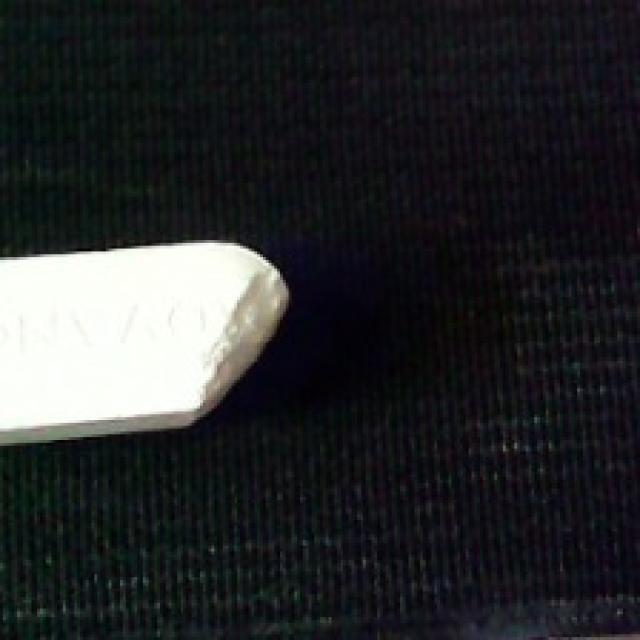defected: (0, 240, 294, 440)
